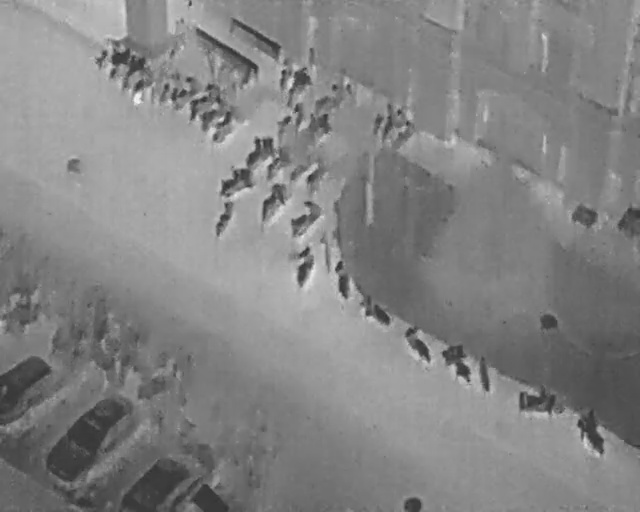Bicycle: (567, 405, 617, 460), (281, 193, 329, 244), (179, 77, 225, 123), (397, 321, 441, 369), (437, 338, 480, 387), (294, 105, 339, 151), (236, 125, 280, 172), (250, 178, 294, 225), (126, 56, 167, 106), (190, 90, 235, 135), (162, 69, 206, 113), (210, 164, 256, 204), (312, 76, 356, 116), (149, 63, 187, 109), (257, 143, 296, 187), (203, 105, 244, 146), (353, 291, 394, 331), (297, 156, 336, 198), (517, 385, 566, 417), (283, 62, 316, 109), (273, 98, 310, 139), (114, 49, 150, 91), (289, 243, 320, 291), (382, 117, 420, 154), (365, 97, 402, 135), (282, 150, 318, 189), (375, 104, 409, 139), (210, 198, 237, 242), (103, 42, 134, 80), (89, 38, 118, 72), (332, 257, 351, 300), (474, 351, 492, 394), (272, 63, 296, 93)
Car: (36, 380, 144, 492), (117, 453, 219, 511), (0, 352, 61, 427)
